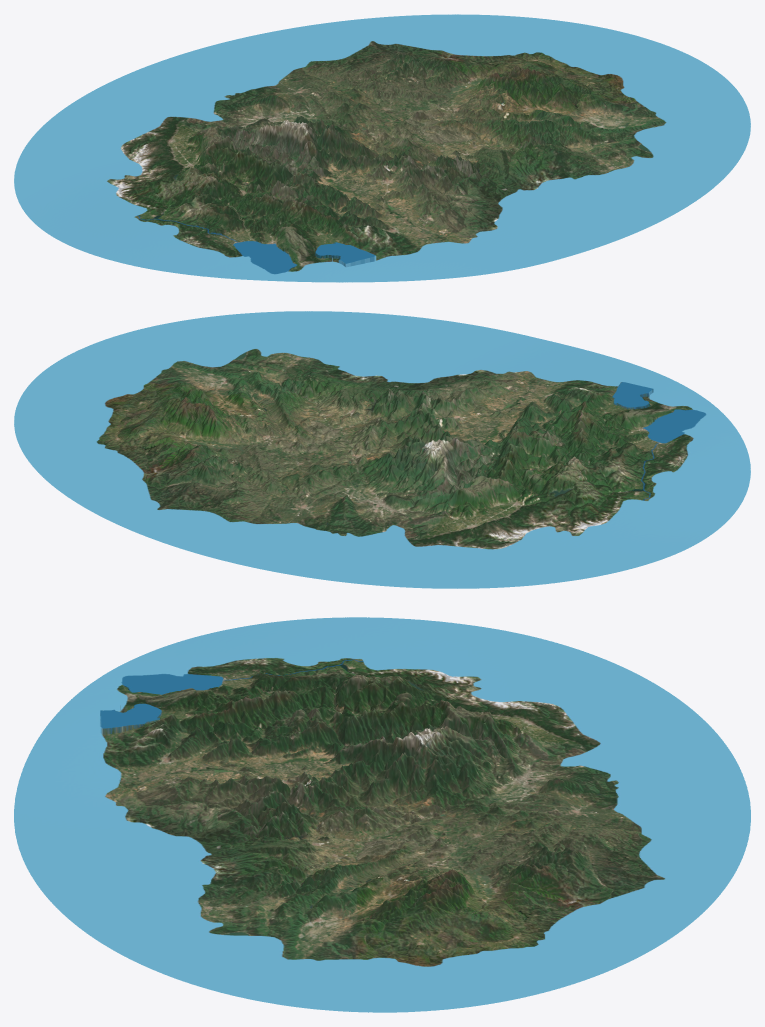
Rendered from MKD-previa-terrain.glb.
3 views of the same model, one above another, from view 1: azimuth 30°, elevation 25°; view 2: azimuth 150°, elevation 25°; view 3: azimuth 270°, elevation 25° (orthographic). The views are drawn at different scales.
Visible parts, largest first — view 1: Macedónia do Norte; view 2: Macedónia do Norte; view 3: Macedónia do Norte.
Part boxes in pixels (left/top/right/bottom): Macedónia do Norte: left=14, top=14, right=750, bottom=282; Macedónia do Norte: left=14, top=311, right=750, bottom=588; Macedónia do Norte: left=14, top=617, right=750, bottom=1012.
Size of the model in its own units: 2.29 by 0.1185 by 1.82.
1 material, 1 textured.
